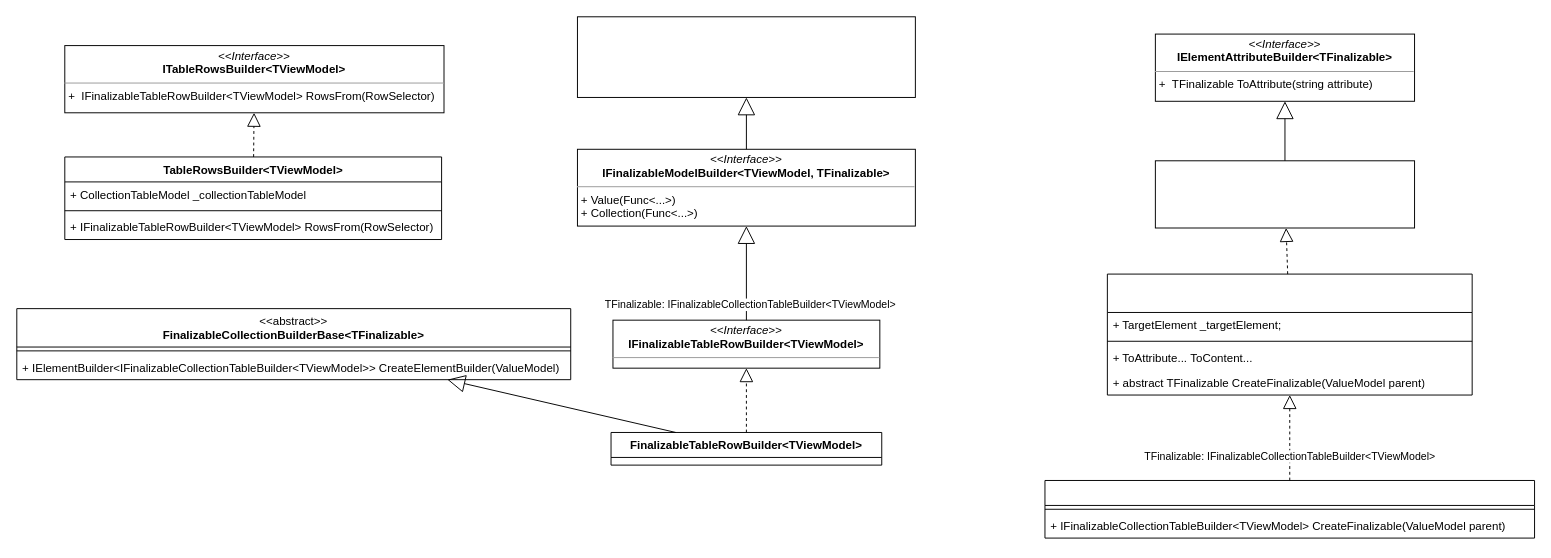
Image size: 1551x558. Some labels were removed from this diagram. Each missing label, with the box of its shape:
<<abstract>> ElementPlaceBuilderBase<TFinalizable>: (1106, 273, 1472, 395)
<<Interface>> IELementContentBuilder<TFinalizable> + TFinalizable ToContent(): (1154, 160, 1415, 228)
<<Interface>> IModelBuilderData + Values + CollectionTables: (576, 16, 915, 97)
CollectionTablePlaceBuilder: (1044, 480, 1535, 538)
